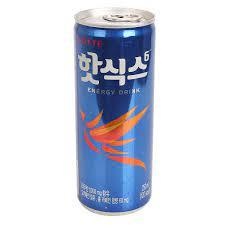hotsix_org: (71, 9, 157, 216)
